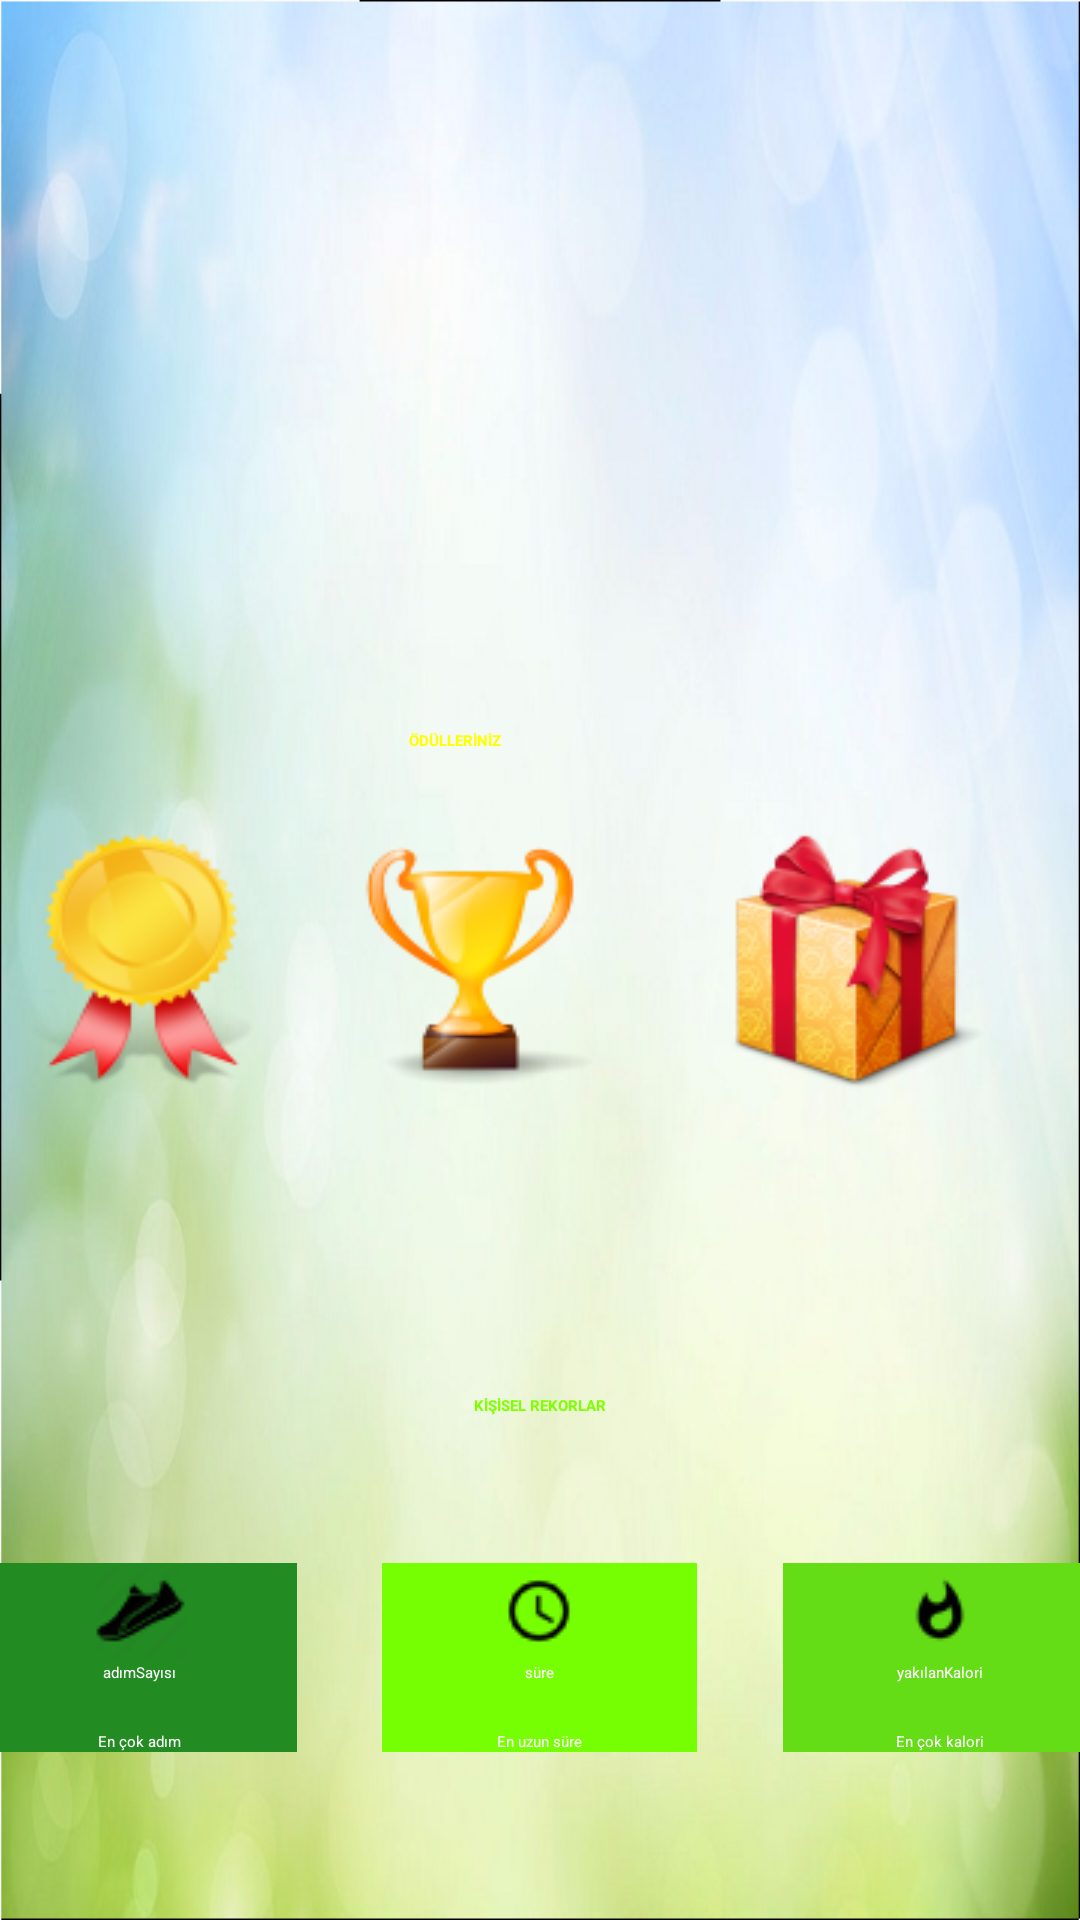

Screen size 1080px×1920px. Icon name, then its center in pixels as (x=x, y=y):
chronomether: (x=539, y=1611)
odul: (x=143, y=960), (x=853, y=960), (x=470, y=964)
